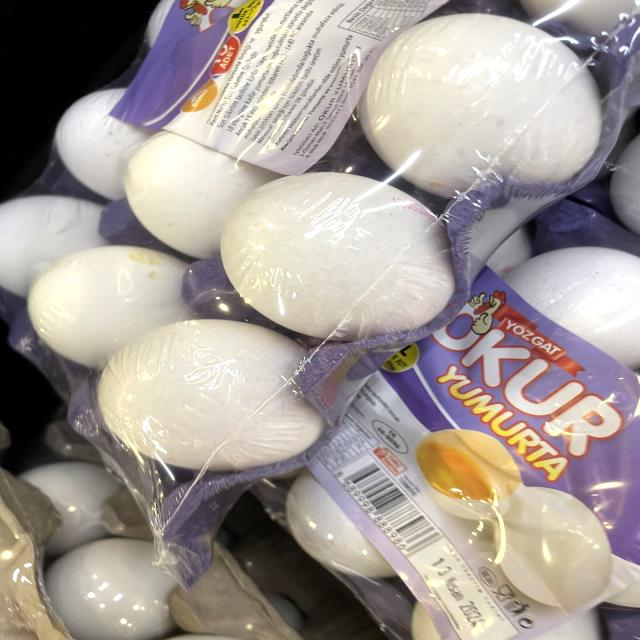egg: (354, 11, 610, 202), (211, 171, 476, 345), (88, 309, 343, 480)
